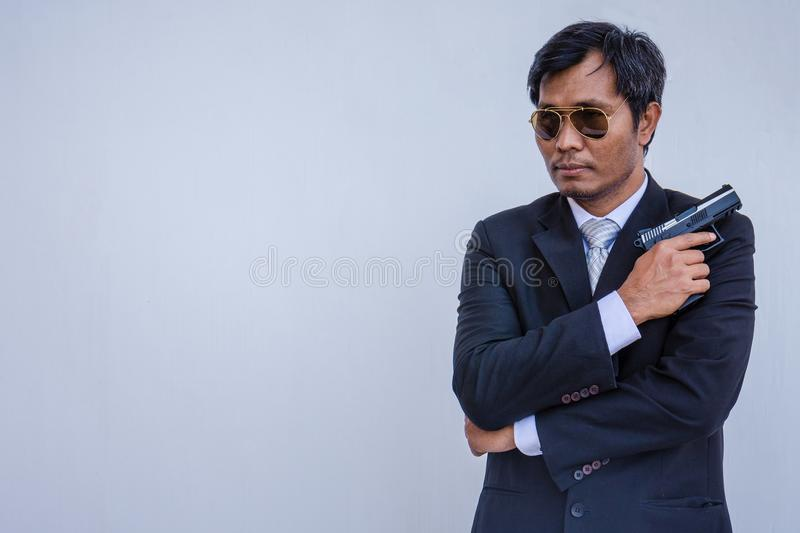criminal: (450, 17, 759, 533)
weapon: (632, 181, 745, 310)
